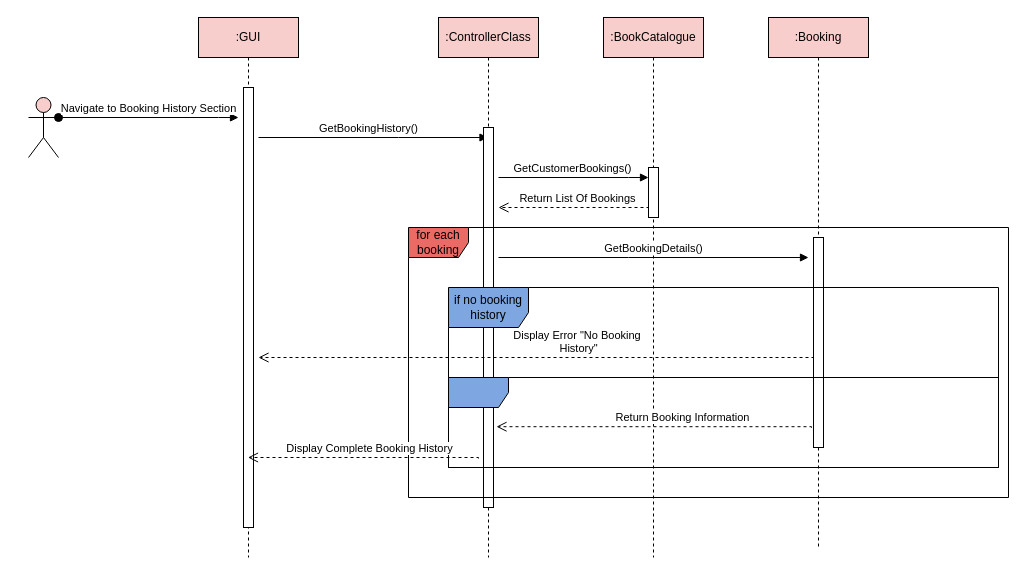
The diagram is 1026 pixels wide and 575 high, and some of its shapes have lost their labels. The centre of each missing label's shape, as x and y in pixels:
"Customer" goes at [43,127].
"else" goes at [723,422].
